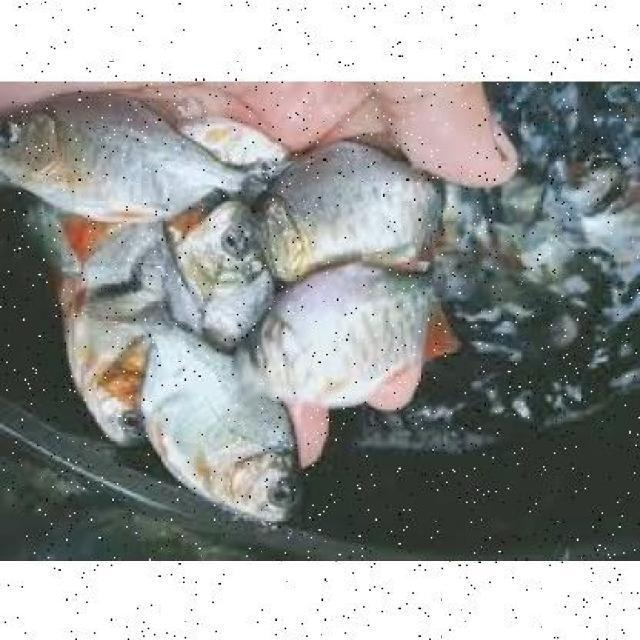ikan-pacu: (134, 329, 300, 529), (0, 87, 246, 215), (242, 262, 450, 396)
